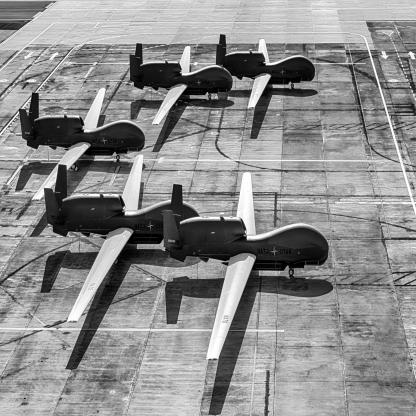RQ4: (162, 173, 330, 362), (42, 155, 201, 324), (20, 88, 147, 202), (130, 44, 234, 126), (217, 35, 316, 110)
